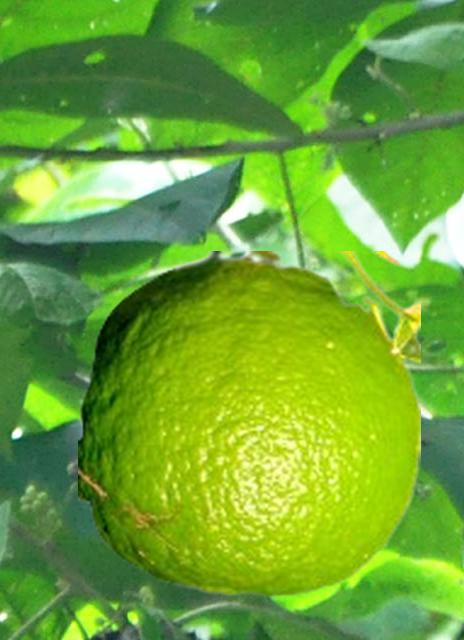dalandan: (78, 251, 419, 596)
